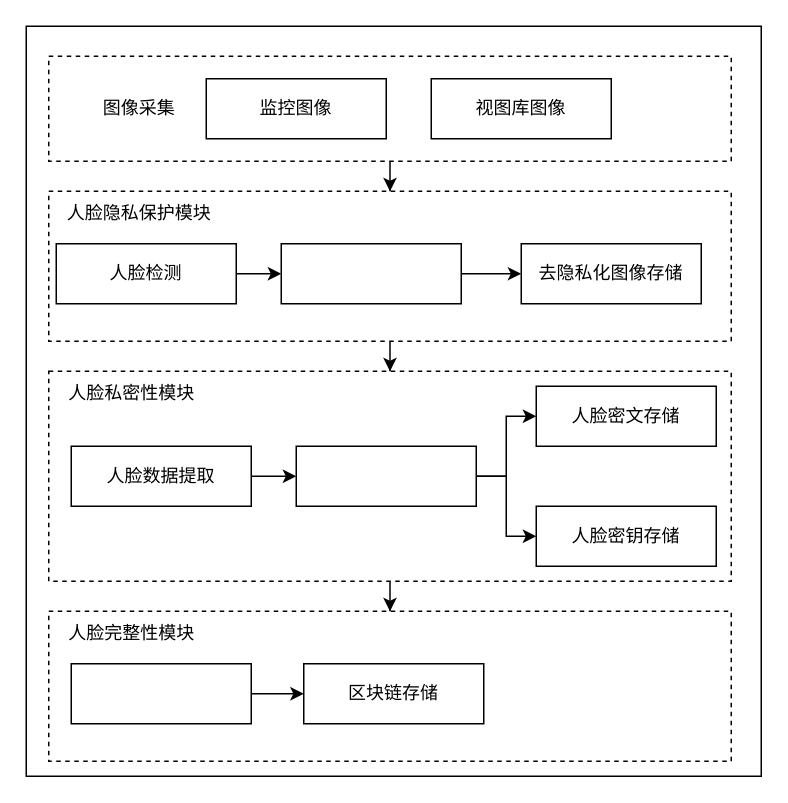
This 788x803 diagram has some shape labels left out. Each missing label, with the centre of its shape:
"face mask 去隐私化" goes at (370,273).
"人脸指纹计算" goes at (160,693).
"人脸数据加密" goes at (385,475).
